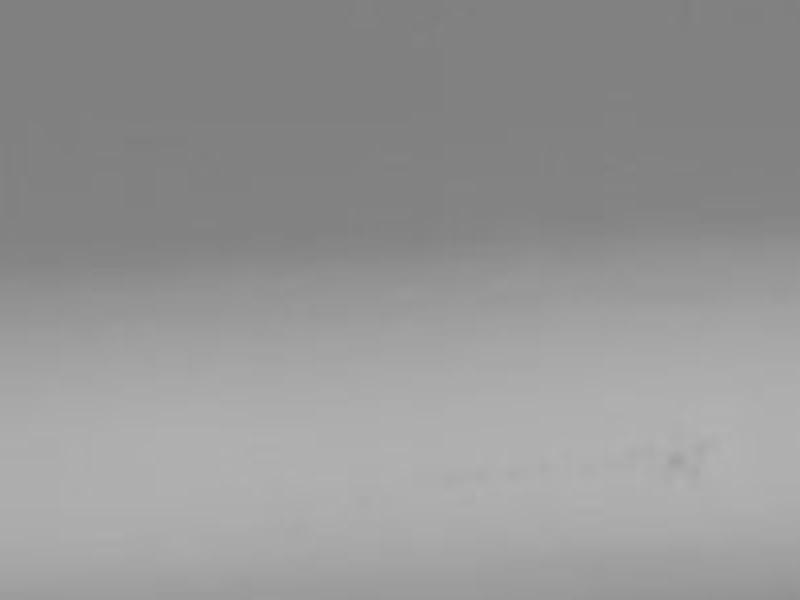defect: (665, 446, 686, 468), (691, 437, 709, 455), (687, 462, 703, 477)
